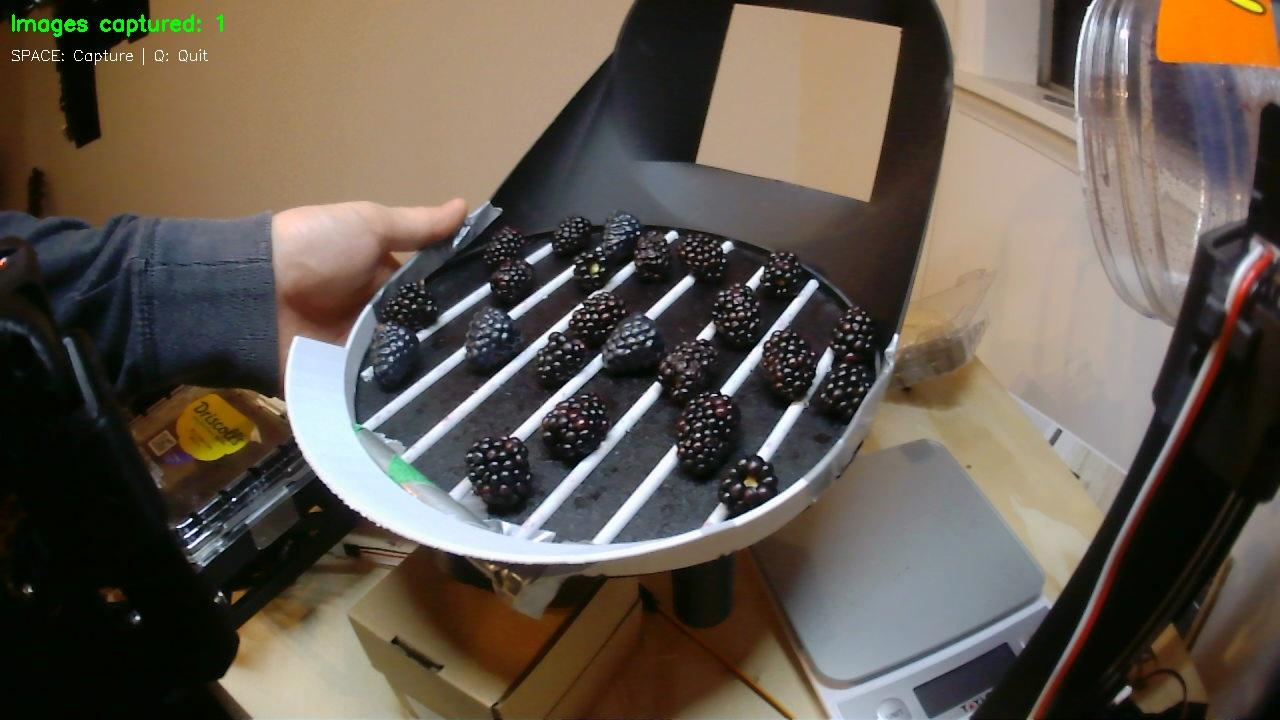berry: (676, 391, 739, 477), (465, 436, 533, 512), (541, 393, 609, 461), (658, 339, 720, 405), (760, 329, 816, 399), (466, 307, 522, 371), (604, 314, 664, 373), (815, 360, 873, 421), (720, 455, 778, 515), (568, 291, 628, 346), (712, 284, 762, 349), (378, 280, 438, 332), (373, 322, 418, 390), (536, 332, 587, 387), (830, 306, 881, 360), (678, 233, 726, 282), (600, 211, 642, 265), (761, 251, 807, 298), (491, 257, 534, 305), (634, 230, 670, 282), (483, 226, 525, 269), (573, 249, 610, 293), (553, 216, 591, 255)
